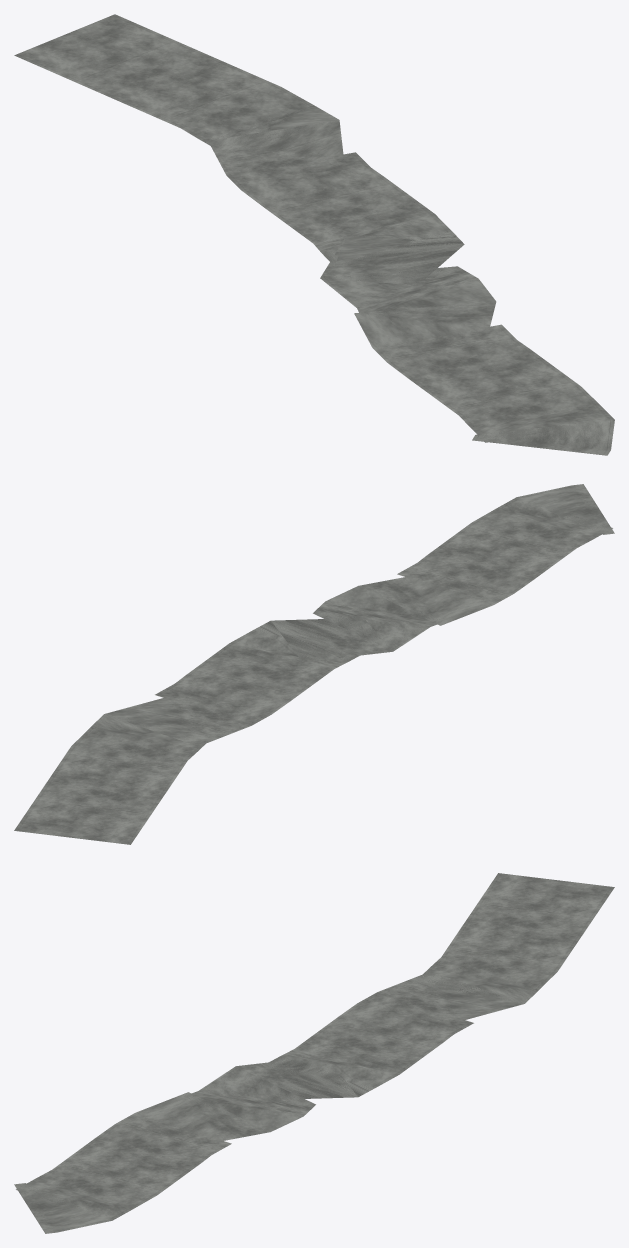
The model's file is RD-ROAD-021.obj.
The picture shows the model from 3 angles, top to bottom: view 1: azimuth 30°, elevation 25°; view 2: azimuth 150°, elevation 25°; view 3: azimuth 330°, elevation 25°; orthographic projection. The views are drawn at different scales.
Visible parts, largest first — view 1: RD-ROAD-021; view 2: RD-ROAD-021; view 3: RD-ROAD-021.
Part boxes in pixels (x1,y1,x2,y2): RD-ROAD-021: [14, 14, 614, 455]; RD-ROAD-021: [14, 484, 614, 844]; RD-ROAD-021: [14, 873, 614, 1233].
Bounding box in the file's own units: 8.01 × 0 × 34.83.
Materials: 1 (1 with a texture image).
